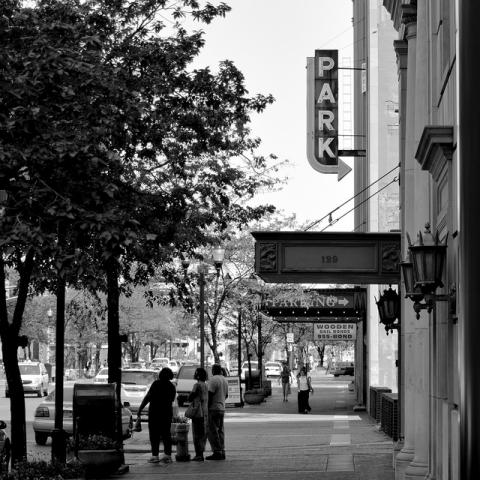car: (31, 380, 76, 445), (121, 371, 159, 416), (174, 363, 212, 407), (5, 362, 49, 398), (223, 373, 246, 404), (330, 361, 354, 378), (240, 360, 258, 380), (264, 362, 283, 378), (94, 367, 108, 383), (148, 362, 164, 372), (169, 361, 179, 374), (130, 363, 143, 369)
